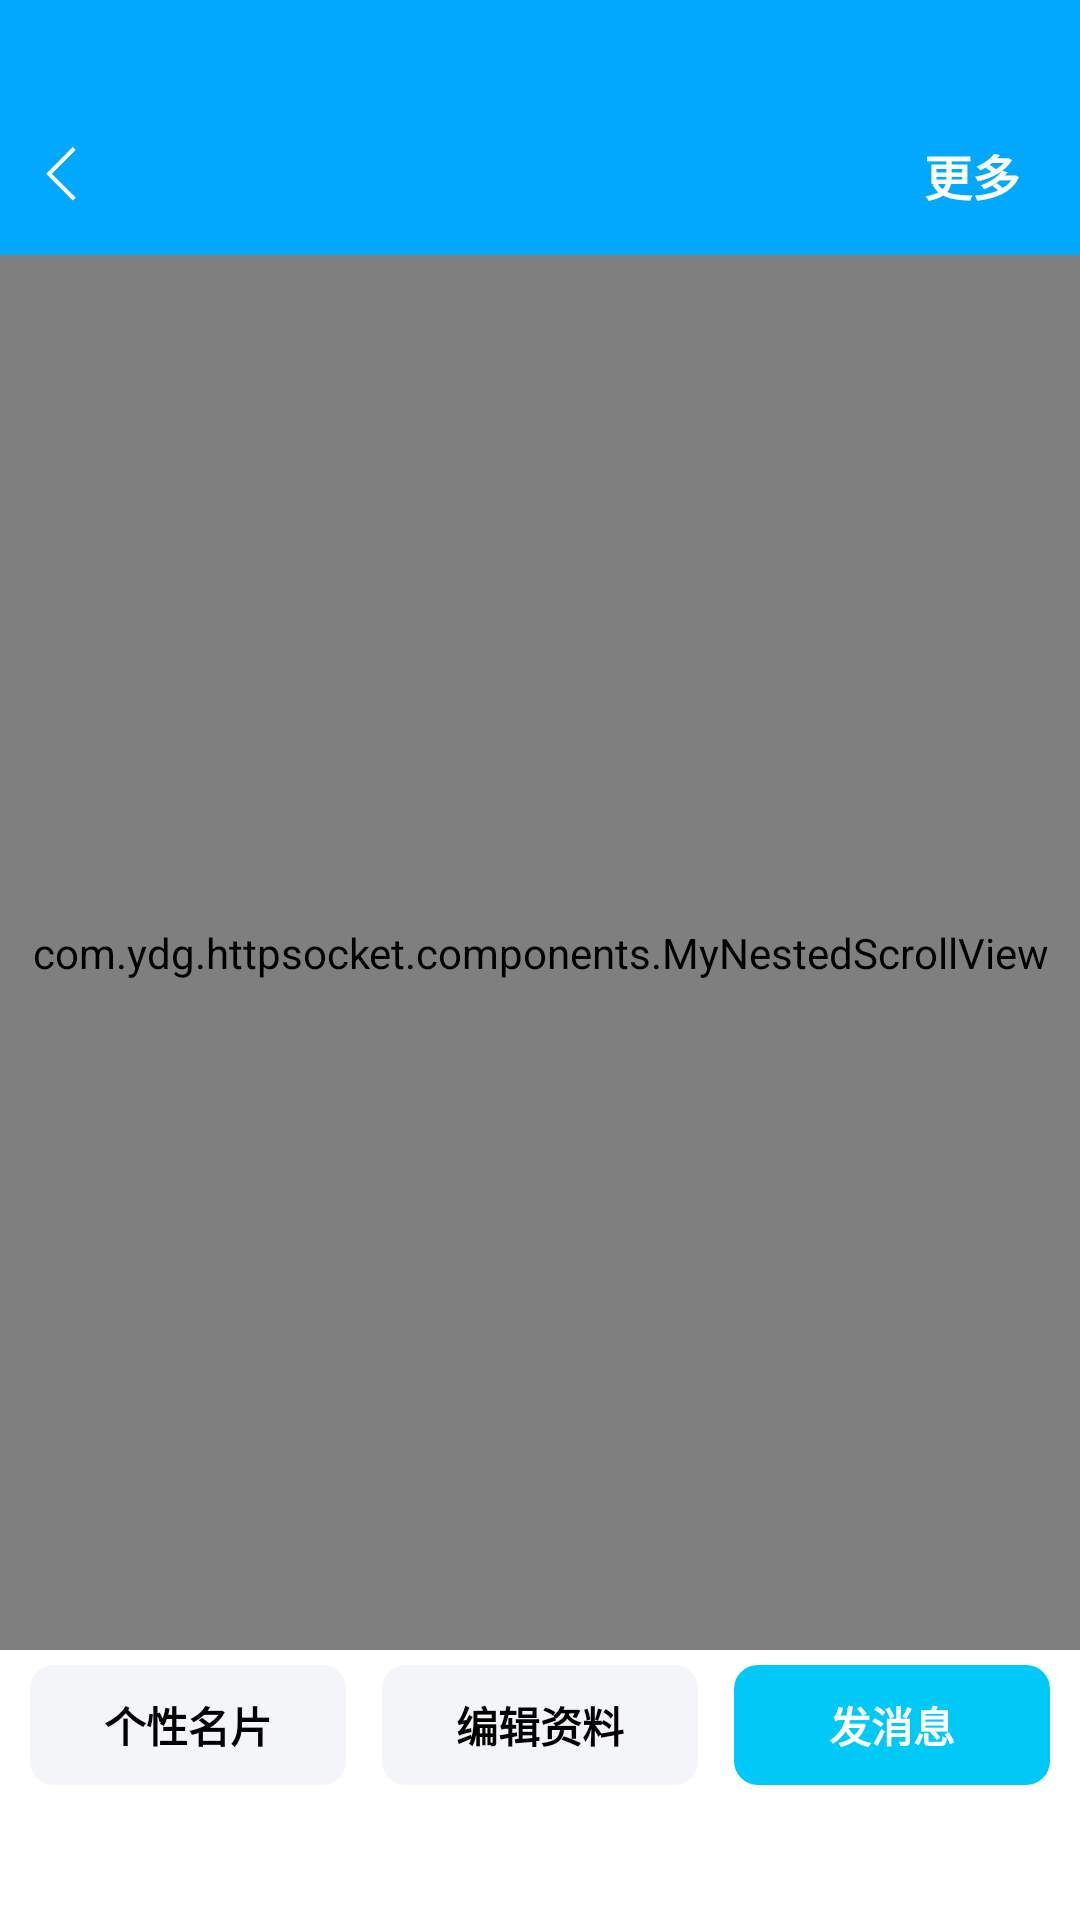

Icon click points for this 1080*1920 phone screenshot, format (x=x, y=y):
back: (x=61, y=174)
